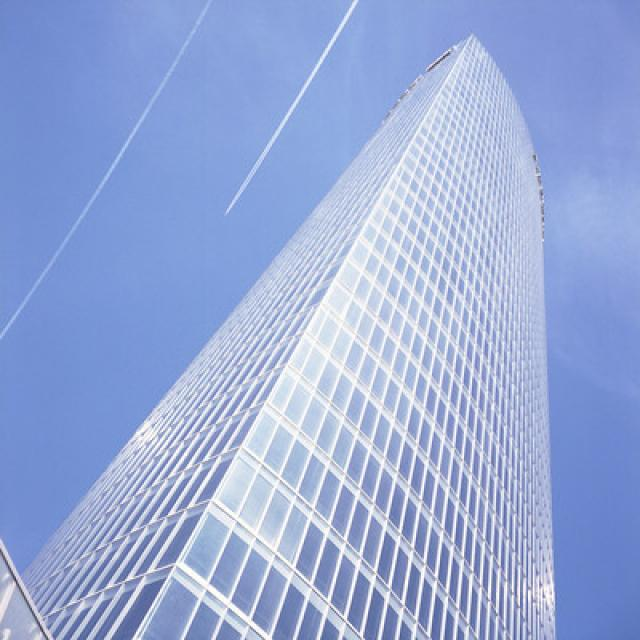Normal_building: (34, 32, 560, 640)
